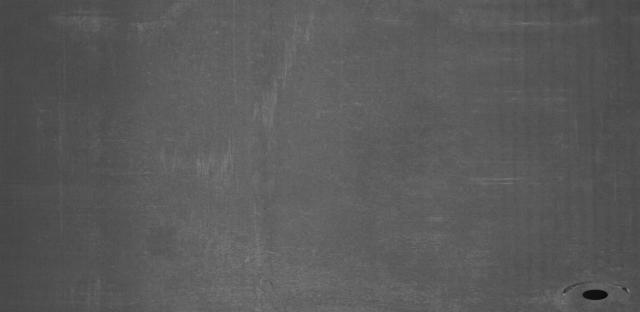punching_hole: (579, 286, 610, 304)
